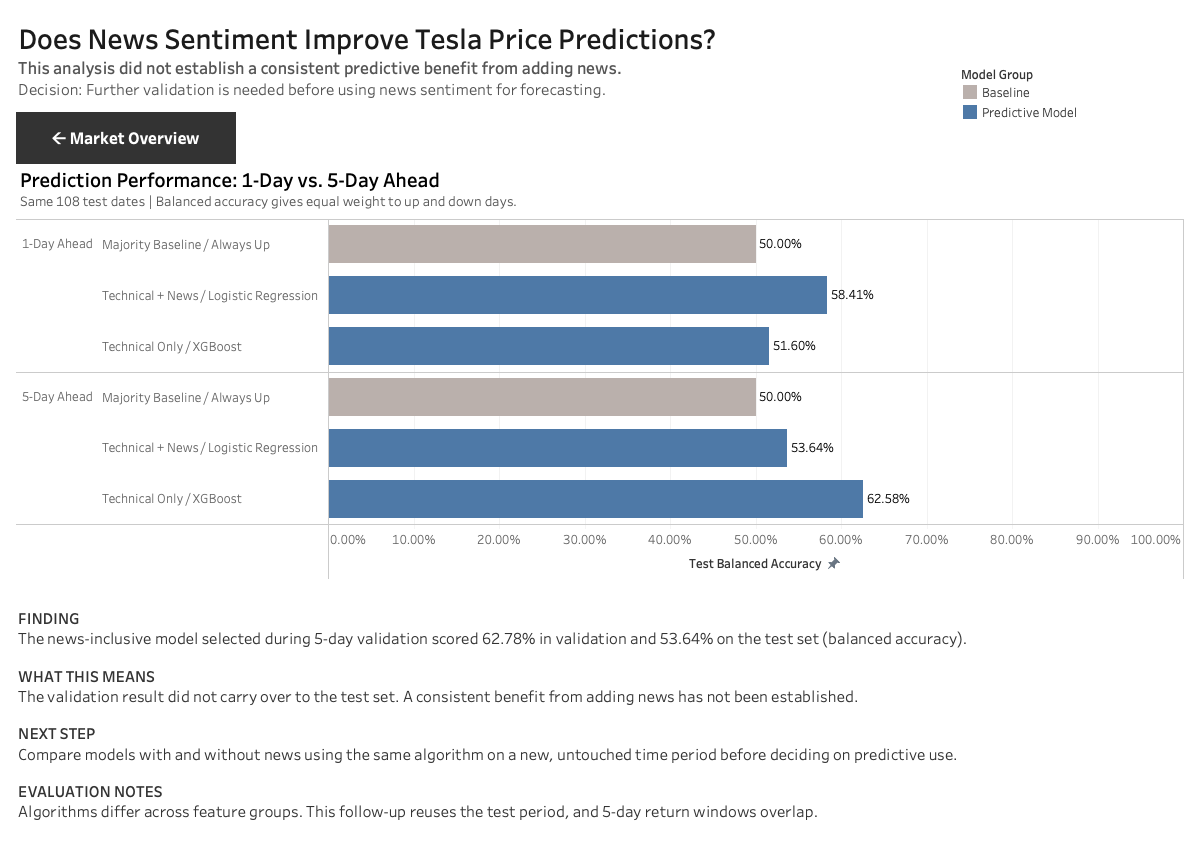

The dashboard page shown, as its layout file describes it:
{"tool":"tableau","page":{"name":"Prediction Evaluation","canvas":[1200,850],"ordinal":1},"visuals":[{"type":"text","box":[16,8,900,104]},{"type":"legend","title":"07_Model Comparison","param":"[federated.1q1o8n41n2ij9p1gmv2r60vdvyg4].[none:Calculation_1240097121951748:nk]","box":[960,64,224,80]},{"type":"dashboard-object","box":[16,112,220,52]},{"type":"worksheet","title":"07_Model Comparison","mark":"Automatic","rows":["Calculation_1240097121837059","Feature_Set"],"cols":["Balanced_Accuracy"],"box":[16,160,1168,420]},{"type":"text","box":[16,600,1168,234]}]}

Visuals, with their boxes in screenshot pixels (x1, y1, x2, y2), scaled from the page's 1200x850 canvas onto the 1200x850 screenshot:
text: {"left": 16, "top": 8, "right": 916, "bottom": 112}
"07_Model Comparison" legend: {"left": 960, "top": 64, "right": 1184, "bottom": 144}
dashboard-object: {"left": 16, "top": 112, "right": 236, "bottom": 164}
"07_Model Comparison" worksheet: {"left": 16, "top": 160, "right": 1184, "bottom": 580}
text: {"left": 16, "top": 600, "right": 1184, "bottom": 834}
